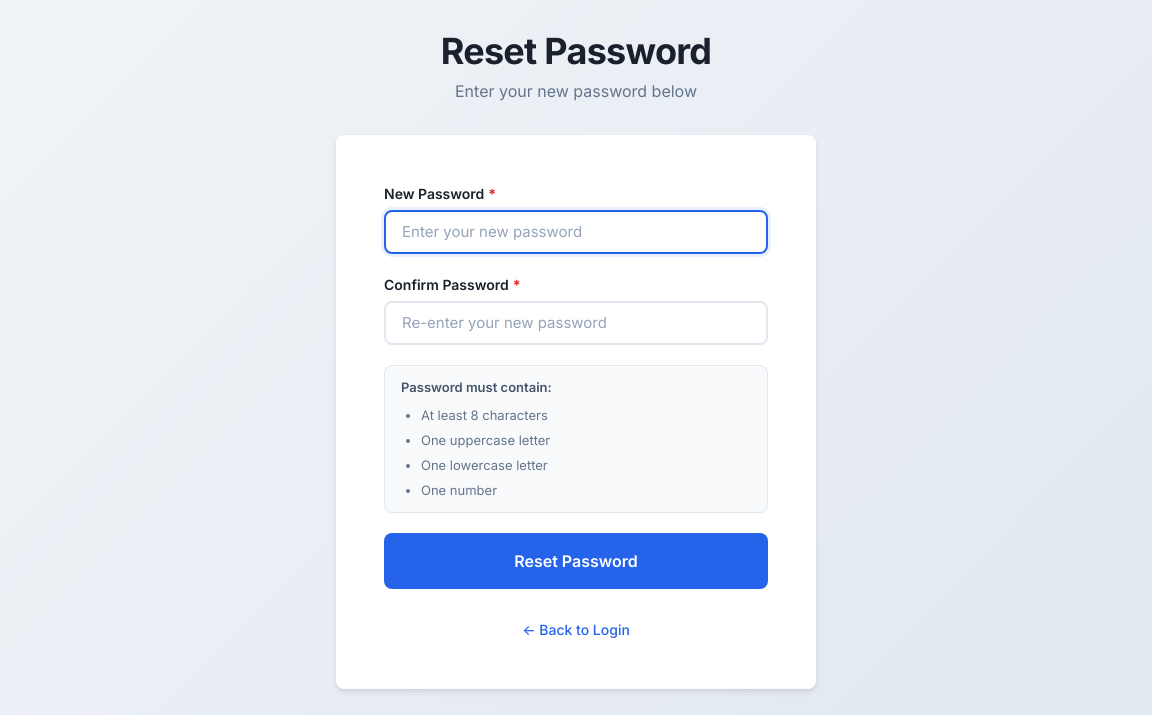
ResetPasswordPage Component › Error Handling › displays generic error message for unknown errors
Type "Password123" into the password field labelled "New Password*".
click(576, 232); type("Password123")  # box [384,210,768,254]
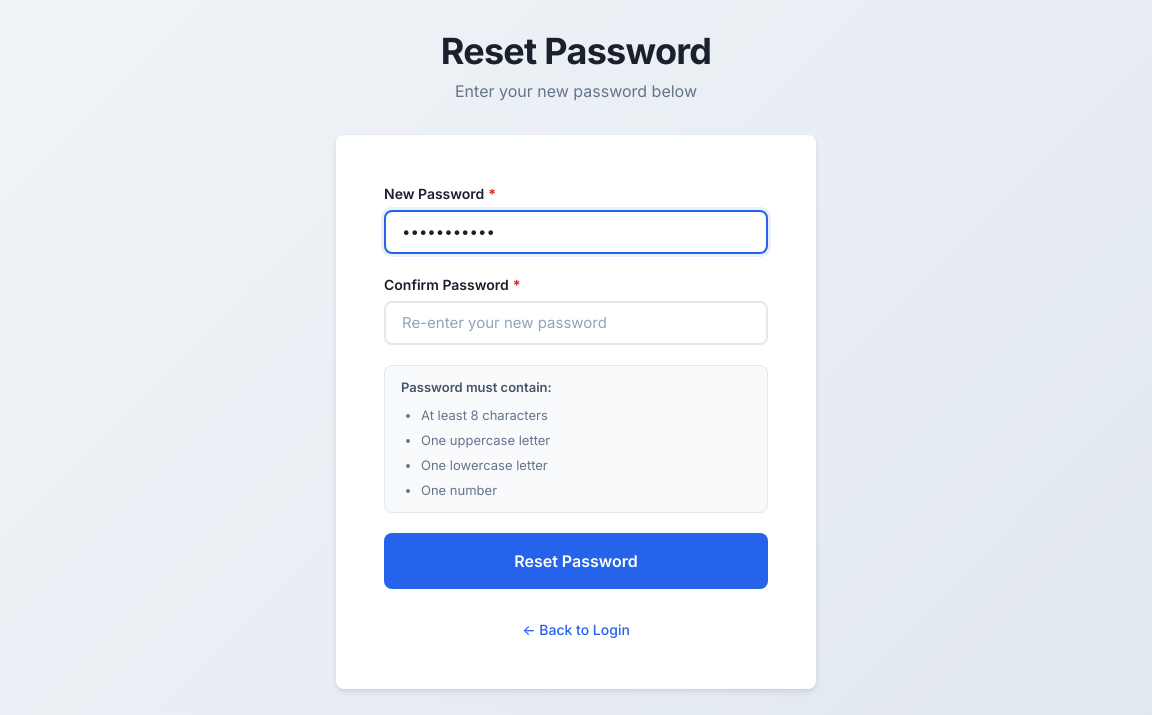
Type "Password123" into the password field labelled "Confirm Password*".
click(576, 323); type("Password123")  # box [384,301,768,345]
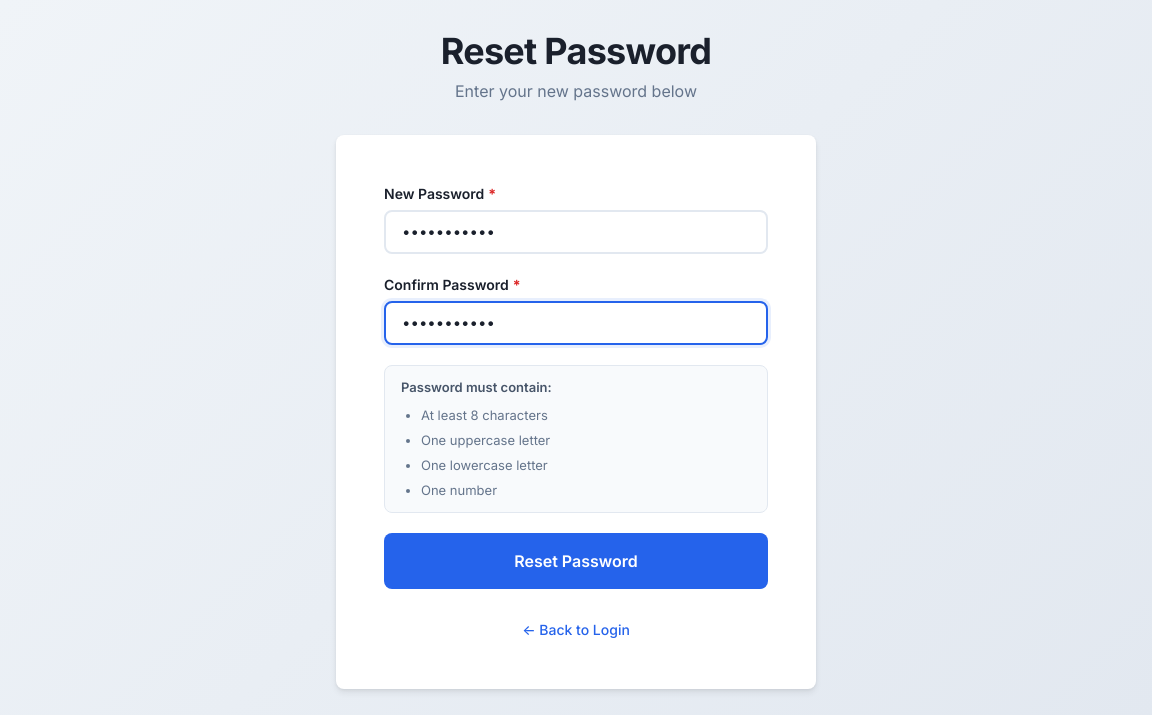
Click the button "Reset Password".
click(576, 561)  # box [384,533,768,589]
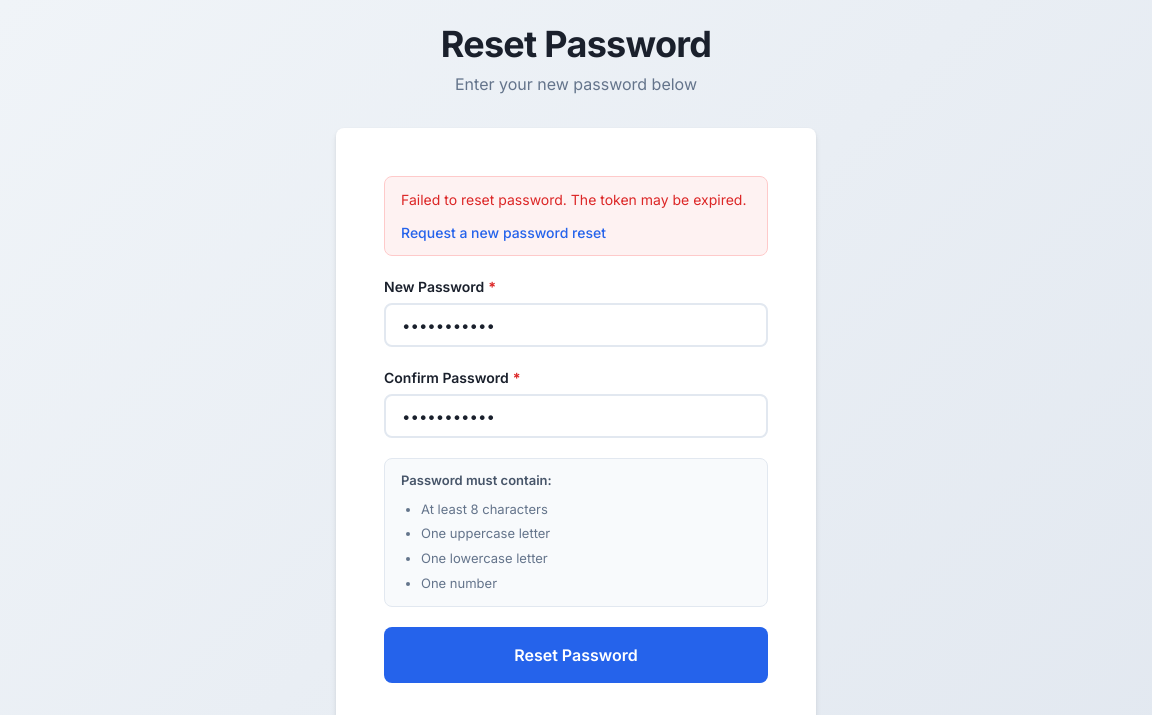
Now the text "Failed to reset password" is shown, box [401,191,746,208]
